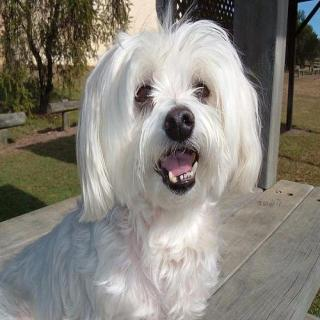dog: (72, 26, 258, 230)
nose: (160, 105, 198, 142)
